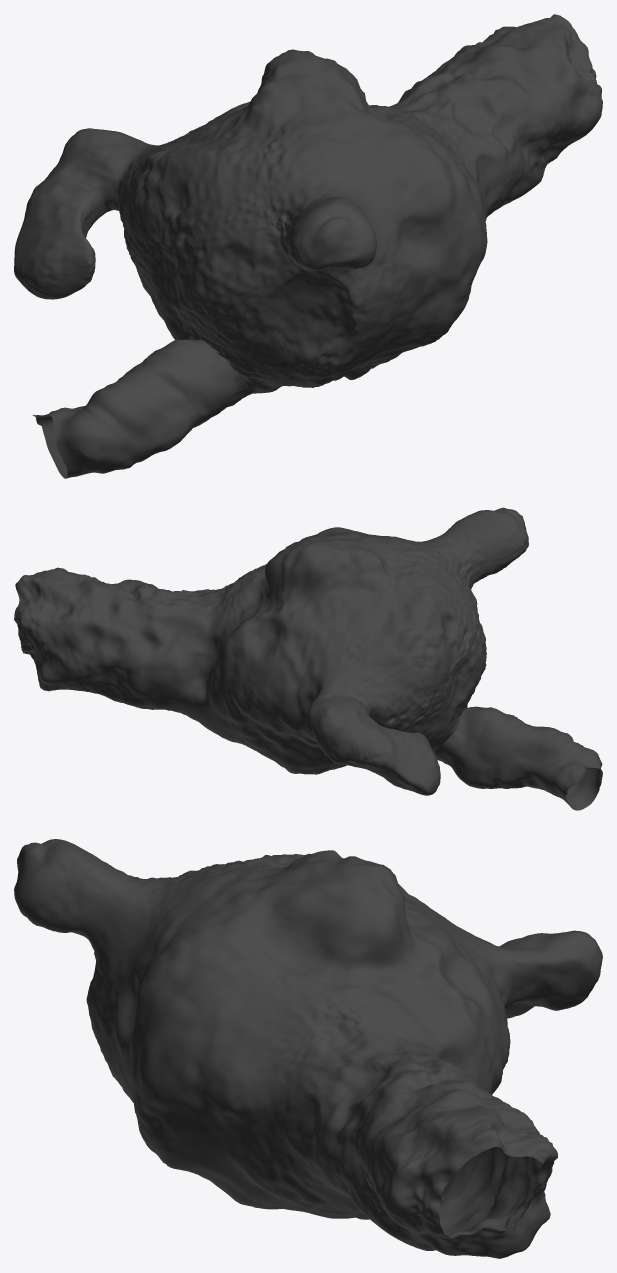
File: Cave.fbx
3 views of the same model, one above another, from view 1: azimuth 30°, elevation 25°; view 2: azimuth 150°, elevation 25°; view 3: azimuth 270°, elevation 25° (orthographic). The views are drawn at different scales.
Visible parts, largest first — view 1: Cylinder_HIGH; view 2: Cylinder_HIGH; view 3: Cylinder_HIGH.
Boxes of the visible parts, box(x1,y1,x2,y2) form: Cylinder_HIGH: box(14, 14, 602, 478); Cylinder_HIGH: box(14, 507, 602, 810); Cylinder_HIGH: box(14, 839, 602, 1258).
Bounding box in the file's own units: 2590 × 1188 × 1792.
Materials: 1 (1 with a texture image).
